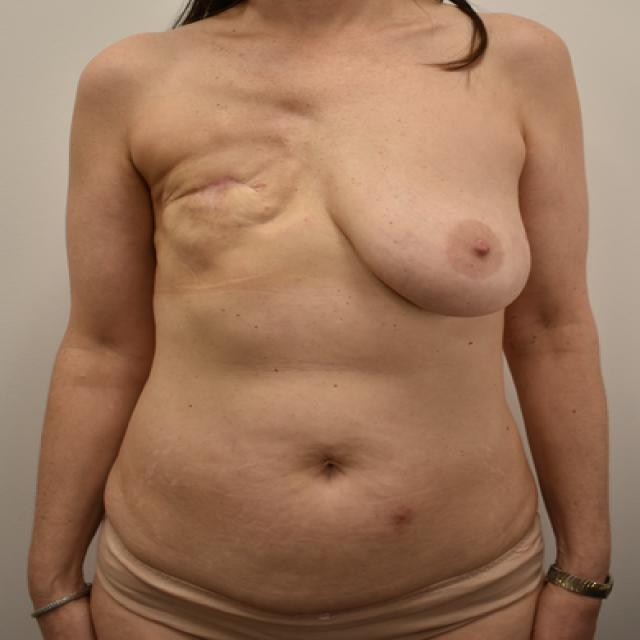Seno herido: (128, 120, 318, 274)
Seno ileso: (328, 120, 534, 321)
